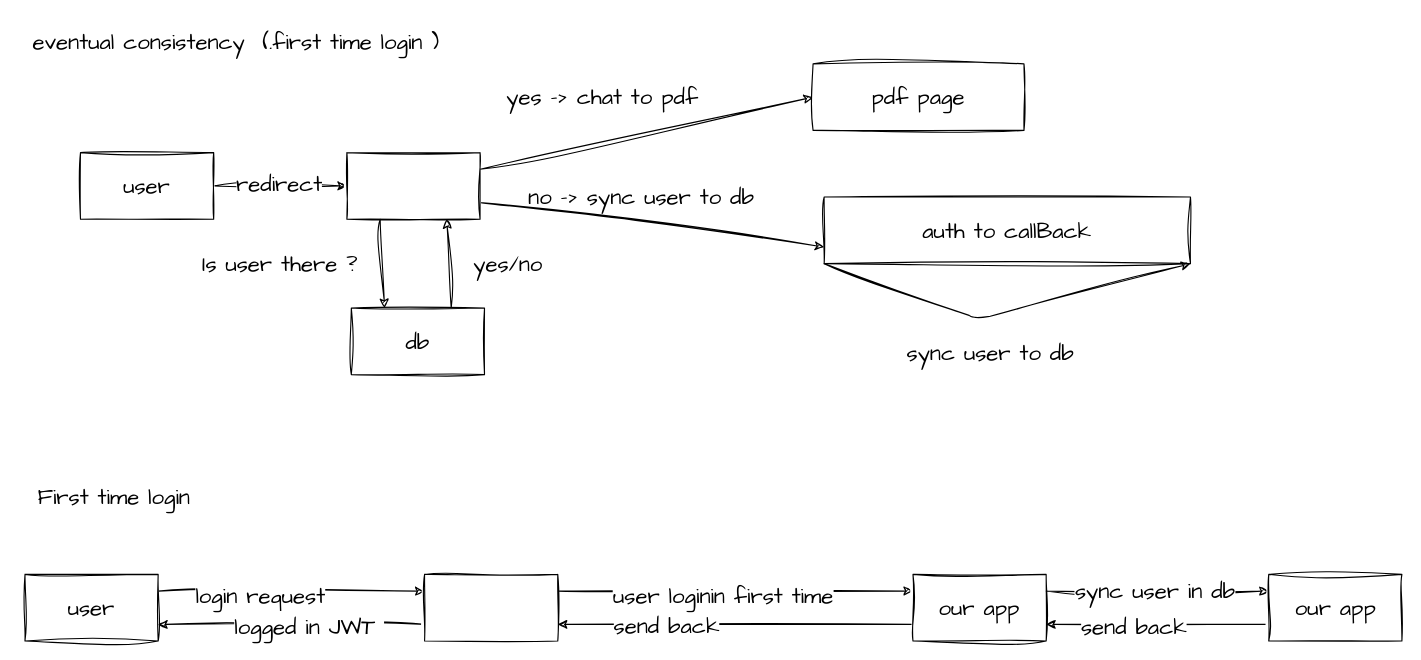
Image size: 1421x660. Some labels were removed from this diagram. The centre of each missing label's shape, as x and y in pixels:
"dashboard" belongs at [413,185].
"kinde (auth)" belongs at [490,607].
